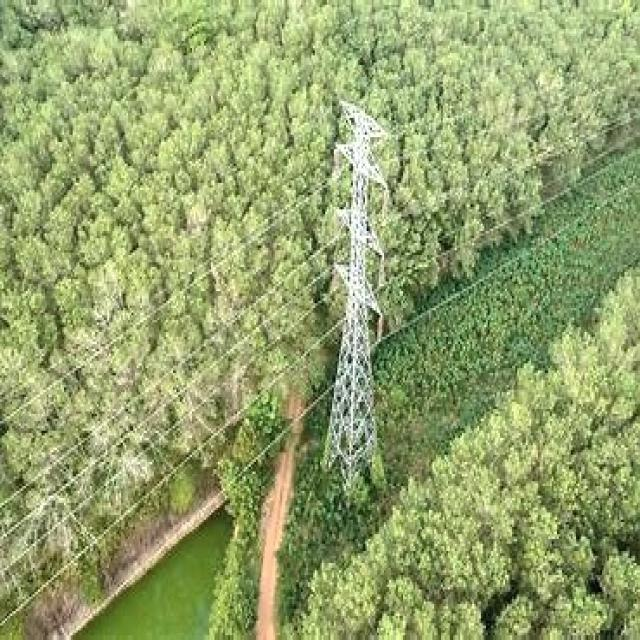utility poles: (295, 80, 421, 508)
